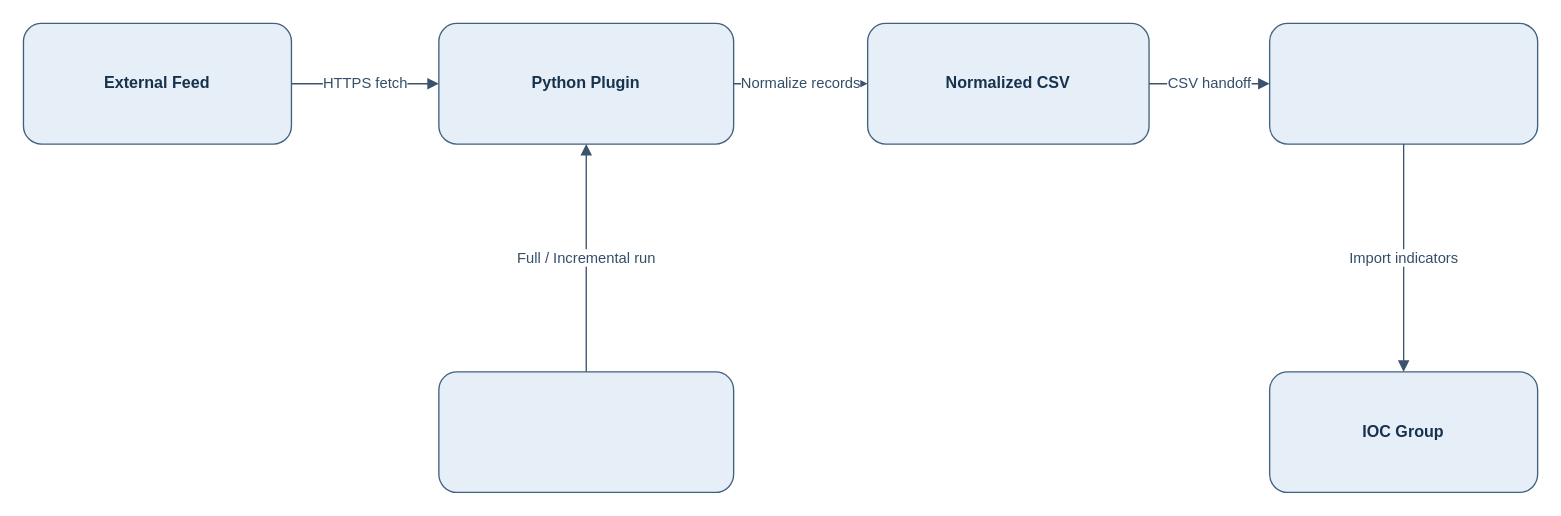
This 1561x516 diagram has some shape labels left out. Each missing label, with the centre of its shape:
AppServer Parser: point (1403, 83)
Schedule: point (586, 431)
